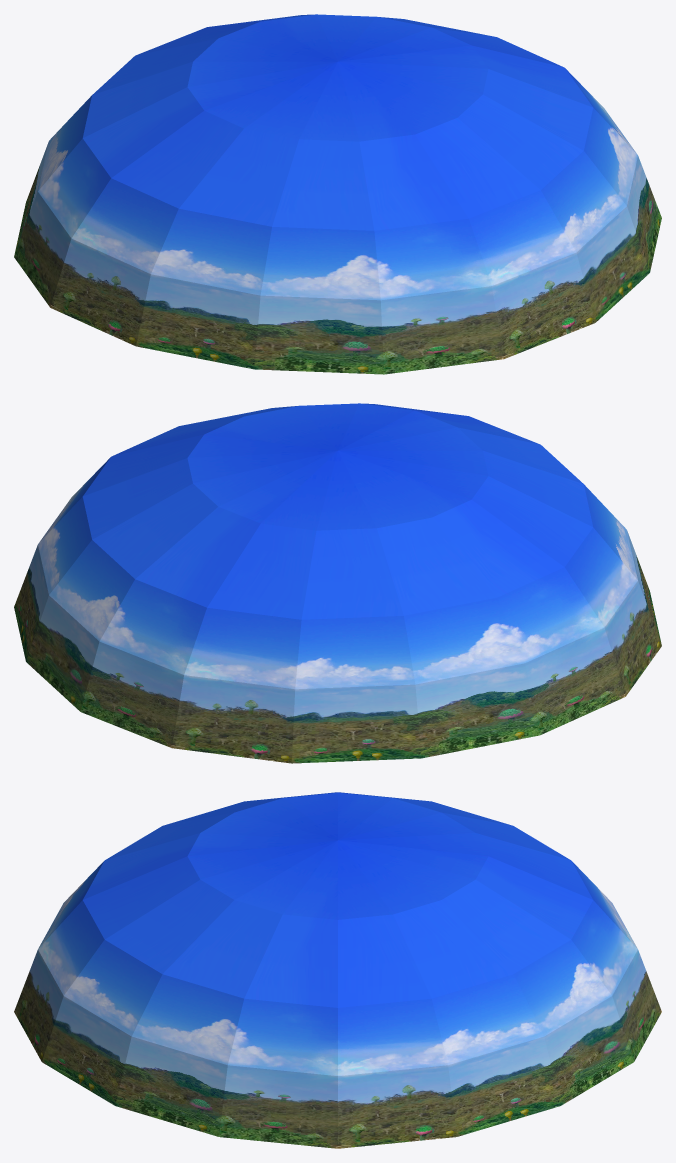
File: Skybox.obj
The picture shows the model from 3 angles, top to bottom: view 1: azimuth 30°, elevation 25°; view 2: azimuth 150°, elevation 25°; view 3: azimuth 270°, elevation 25°; orthographic projection. The views are drawn at different scales.
Parts seen in each view (by area): view 1: Object_2; view 2: Object_2; view 3: Object_2.
Boxes of the visible parts, left/top/right/bottom form: Object_2: left=14, top=14, right=661, bottom=374; Object_2: left=14, top=403, right=661, bottom=763; Object_2: left=14, top=792, right=661, bottom=1148.
Bounding box in the file's own units: 375327 × 111066 × 375327.
Materials: 3 (3 with a texture image).
